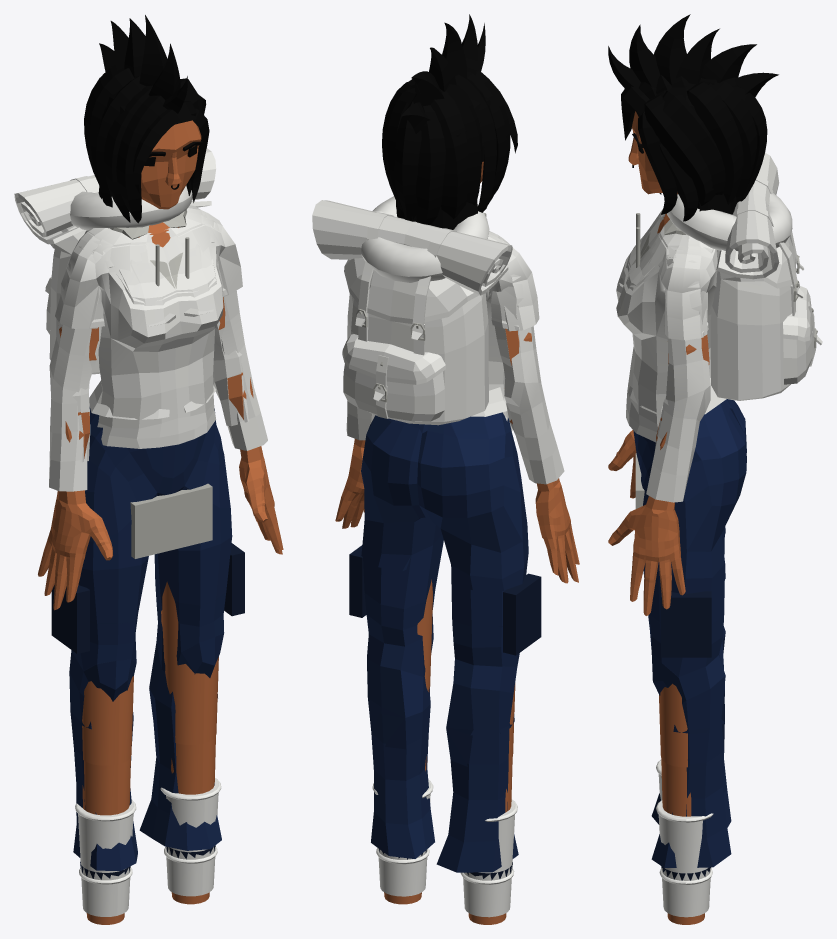
The model's file is avatar-femenino.glb.
The picture shows the model from 3 angles, left to right: view 1: azimuth 30°, elevation 25°; view 2: azimuth 150°, elevation 25°; view 3: azimuth 270°, elevation 25°; orthographic projection.
Parts seen in each view (by area): view 1: Top_hoodie, Top_oversize, Bottom_cargo, Bottom_mochos, Bottom_jogger, Top_camisa, Top_camiseta, Bottom_pantaloneta, Socks_altas, Hair_ondulado, Bottom_jean, Hair_largo (+4 smaller); view 2: Top_hoodie, Bottom_cargo, Bottom_jean, Bottom_jogger, Bottom_mochos, Hair_ondulado, Hair_largo, Top_oversize, Socks_altas, Hair_urbano, Bottom_pantaloneta, Top_camisa (+2 smaller); view 3: Top_hoodie, Top_oversize, Bottom_cargo, Hair_ondulado, Hair_largo, Hair_urbano, Bottom_jean, Bottom_mochos, Bottom_jogger, Top_camiseta, Socks_altas, Top_camisa (+2 smaller).
Boxes of the visible parts, x1,y1,x2,y2 form: Top_hoodie: [14, 148, 277, 596]; Top_oversize: [40, 206, 279, 609]; Bottom_cargo: [51, 407, 244, 870]; Bottom_mochos: [69, 418, 227, 815]; Bottom_jogger: [69, 408, 232, 879]; Top_camisa: [59, 205, 279, 606]; Top_camiseta: [38, 208, 283, 610]; Bottom_pantaloneta: [82, 581, 218, 765]; Socks_altas: [75, 778, 221, 916]; Hair_ondulado: [84, 66, 208, 222]; Bottom_jean: [70, 414, 227, 719]; Hair_largo: [84, 64, 209, 223]; Top_hoodie: [312, 196, 573, 580]; Bottom_cargo: [349, 413, 541, 872]; Bottom_jean: [361, 412, 525, 766]; Bottom_jogger: [362, 420, 528, 880]; Bottom_mochos: [367, 415, 526, 812]; Hair_ondulado: [382, 69, 517, 224]; Hair_largo: [382, 70, 517, 229]; Top_oversize: [335, 236, 579, 583]; Socks_altas: [372, 779, 517, 917]; Hair_urbano: [400, 14, 485, 133]; Bottom_pantaloneta: [361, 545, 515, 761]; Top_camisa: [337, 232, 572, 582]; Top_hoodie: [608, 153, 822, 597]; Top_oversize: [611, 209, 717, 615]; Bottom_cargo: [648, 403, 745, 867]; Hair_ondulado: [621, 75, 766, 220]; Hair_largo: [621, 76, 767, 221]; Hair_urbano: [608, 14, 778, 167]; Bottom_jean: [635, 400, 746, 761]; Bottom_mochos: [633, 399, 741, 816]; Bottom_jogger: [634, 400, 746, 880]; Top_camiseta: [608, 211, 689, 615]; Socks_altas: [656, 760, 713, 917]; Top_camisa: [608, 214, 726, 606].
Size of the model in its own units: 0.4925 by 1.83 by 0.4045.
